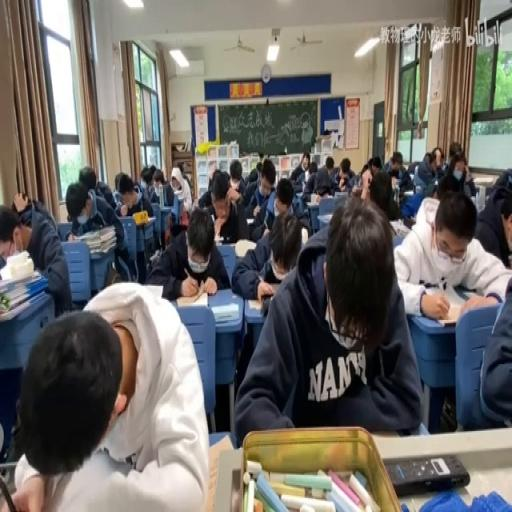calculator: (205, 431, 235, 508), (429, 292, 490, 327), (174, 287, 209, 306), (210, 300, 238, 322), (256, 282, 282, 304), (234, 236, 256, 256), (389, 218, 411, 238), (6, 248, 30, 264), (134, 213, 155, 226), (316, 212, 334, 227), (247, 297, 264, 310), (472, 175, 494, 183), (149, 248, 159, 263), (333, 191, 349, 199), (414, 182, 423, 193), (213, 234, 222, 244), (294, 190, 305, 198), (305, 198, 319, 204), (401, 189, 413, 196), (338, 183, 347, 192), (245, 216, 254, 223)
paper: (233, 193, 418, 441), (8, 279, 208, 506), (392, 188, 510, 316), (0, 196, 71, 320), (148, 205, 227, 300), (68, 176, 130, 289), (476, 273, 510, 427), (197, 160, 245, 228), (240, 158, 278, 239), (270, 181, 312, 243), (364, 166, 402, 222), (440, 148, 475, 196), (408, 148, 441, 196), (304, 157, 336, 199), (146, 166, 174, 210), (11, 189, 33, 226), (334, 156, 356, 192), (288, 152, 308, 186), (94, 182, 116, 212), (77, 164, 96, 194), (492, 170, 512, 196), (397, 162, 413, 192), (229, 160, 242, 184), (132, 183, 142, 205), (182, 171, 191, 192), (114, 172, 123, 192), (246, 168, 258, 183), (370, 155, 380, 172), (450, 145, 460, 162), (324, 155, 334, 171), (360, 161, 370, 176), (456, 156, 466, 170), (392, 155, 402, 168), (308, 161, 317, 175), (210, 168, 219, 182), (423, 150, 432, 164), (176, 161, 183, 176), (352, 186, 362, 196), (160, 168, 166, 183), (256, 160, 262, 174), (300, 179, 306, 192)
person: (384, 452, 468, 494), (0, 461, 19, 496)
